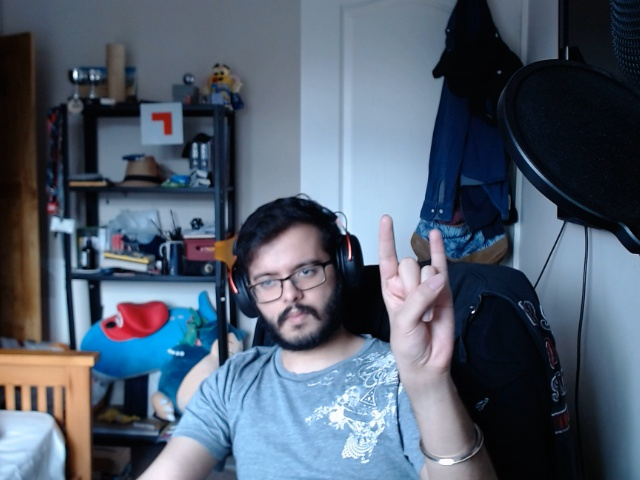Rock on: (368, 201, 464, 373)
